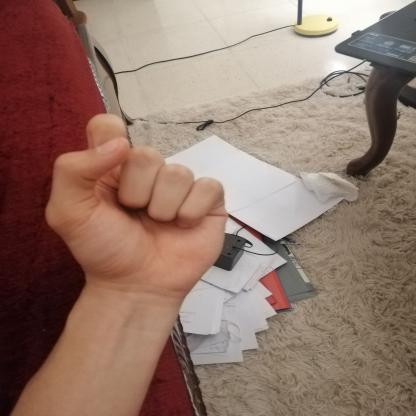FAA: (28, 105, 246, 308)
